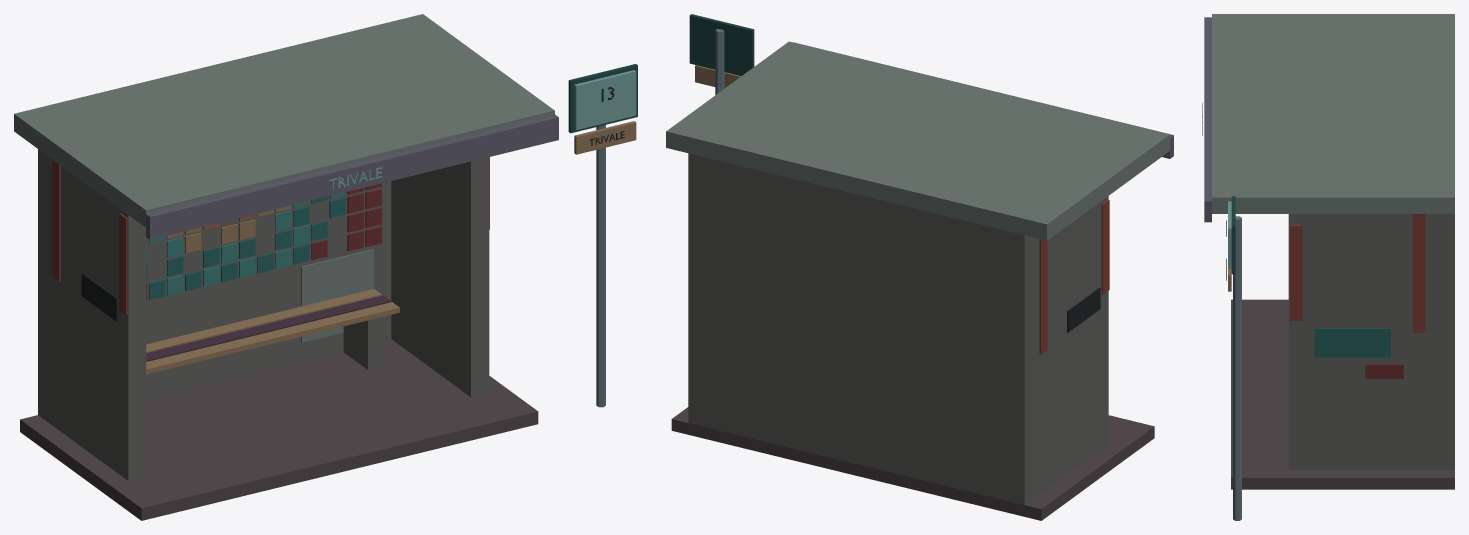
The model's file is statie_rurala.glb.
3 views of the same model, side by side, from view 1: azimuth 30°, elevation 25°; view 2: azimuth 150°, elevation 25°; view 3: azimuth 270°, elevation 25° (orthographic). The views are drawn at different scales.
Parts seen in each view (by area): view 1: StatieRurala; view 2: StatieRurala; view 3: StatieRurala.
Part boxes in pixels (x1,y1,x2,y2): StatieRurala: (14,14,637,520); StatieRurala: (666,14,1173,520); StatieRurala: (1202,14,1454,520).
Bounding box in the file's own units: 4.18 × 2.65 × 1.98.
